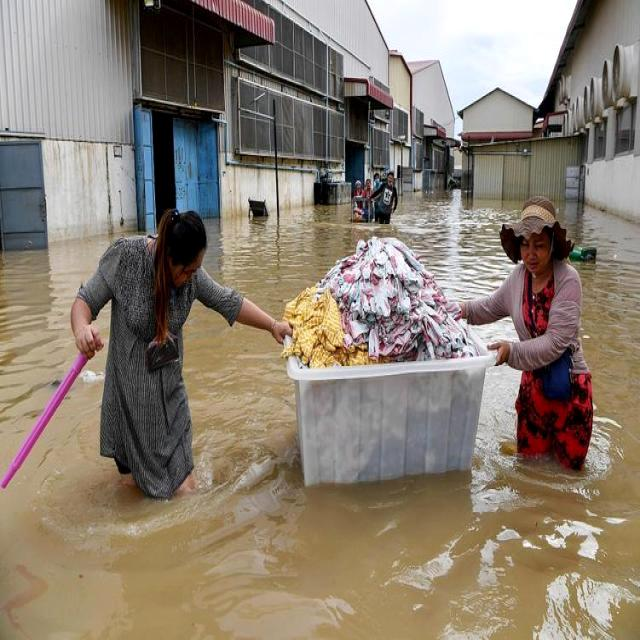civilian: (57, 206, 309, 504), (458, 202, 597, 485), (376, 170, 399, 227), (349, 178, 368, 219), (358, 174, 380, 207), (368, 170, 384, 190)
